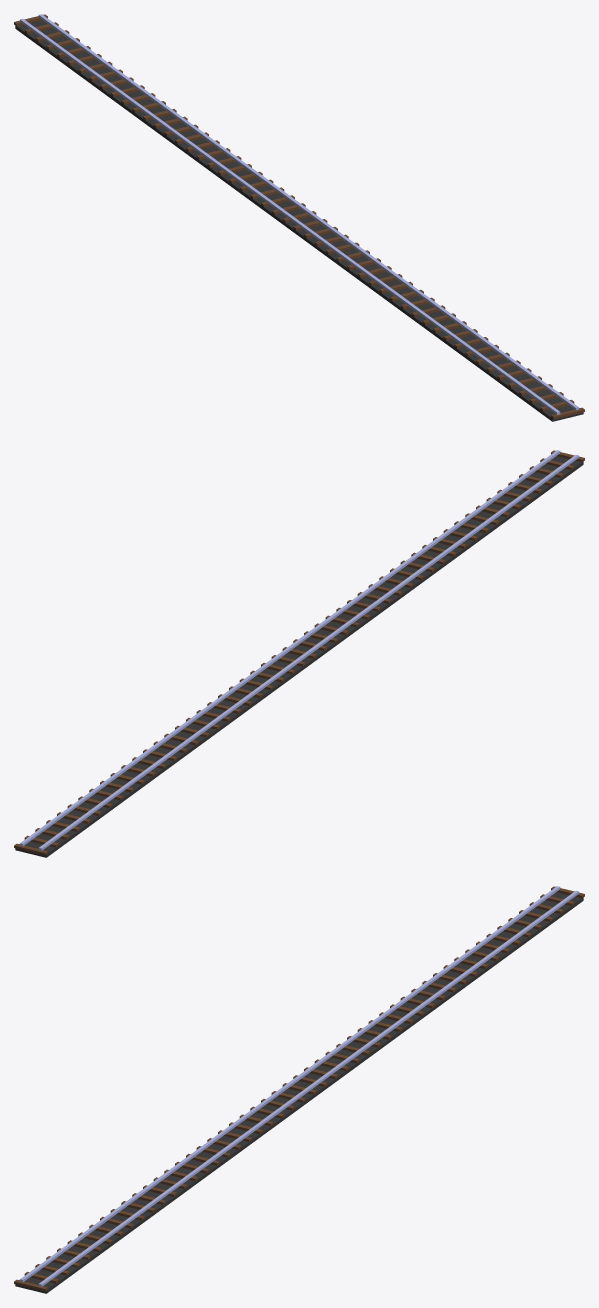
Rendered from SM_train_tracks1.fbx.
3 renders of one model, top to bottom at view 1: azimuth 30°, elevation 25°; view 2: azimuth 150°, elevation 25°; view 3: azimuth 330°, elevation 25°, orthographic.
Visible parts, largest first — view 1: Railroad1; view 2: Railroad1; view 3: Railroad1.
Boxes of the visible parts, x1,y1,x2,y2 form: Railroad1: (14, 14, 584, 421); Railroad1: (14, 450, 584, 857); Railroad1: (14, 886, 584, 1293).
Bounding box in the file's own units: 100 × 25.01 × 3000.
